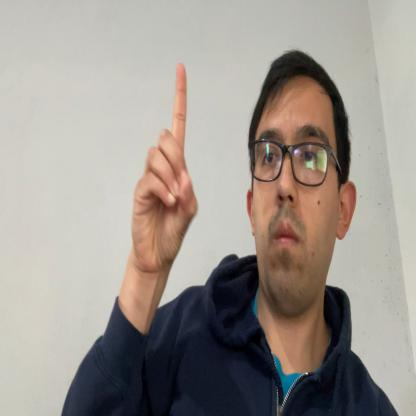D: (131, 62, 199, 271)
